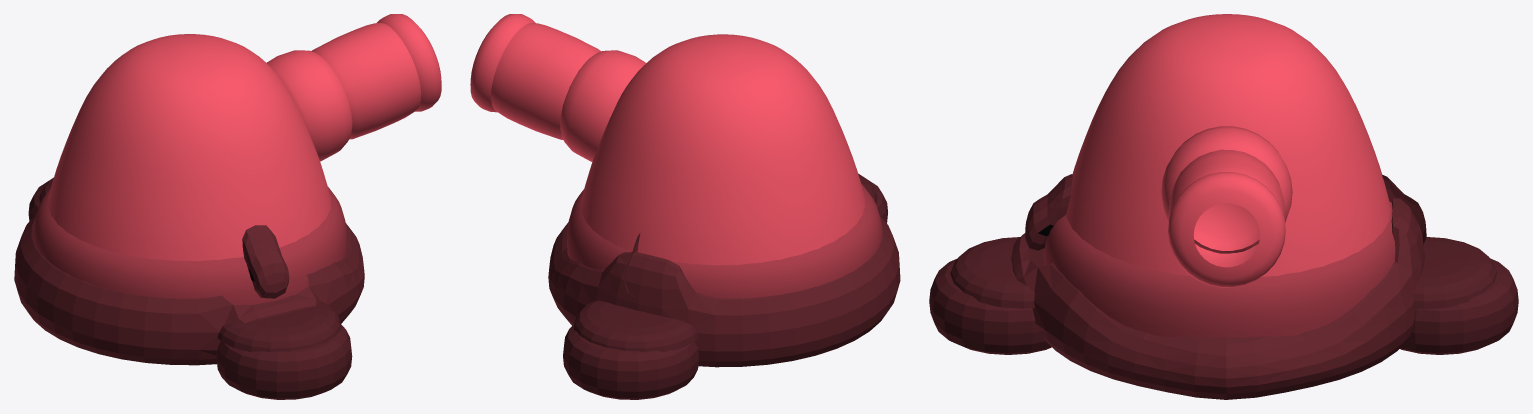
The model's file is Tower_invalid.obj.
The picture shows the model from 3 angles, left to right: view 1: azimuth 30°, elevation 25°; view 2: azimuth 150°, elevation 25°; view 3: azimuth 270°, elevation 25°; orthographic projection. The views are drawn at different scales.
Parts seen in each view (by area): view 1: Barrel_Cylinder.001; view 2: Barrel_Cylinder.001; view 3: Barrel_Cylinder.001.
Part boxes in pixels (x1,y1,x2,y2): Barrel_Cylinder.001: (14,14,441,399); Barrel_Cylinder.001: (470,14,900,399); Barrel_Cylinder.001: (929,14,1518,399).
Bounding box in the file's own units: 3.62 × 2.32 × 4.12.
1 material, 1 textured.
